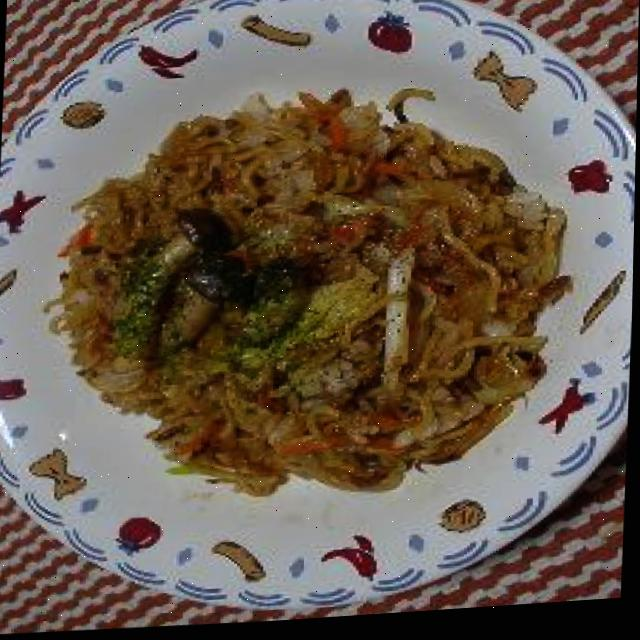面条主食: (40, 60, 560, 523)
